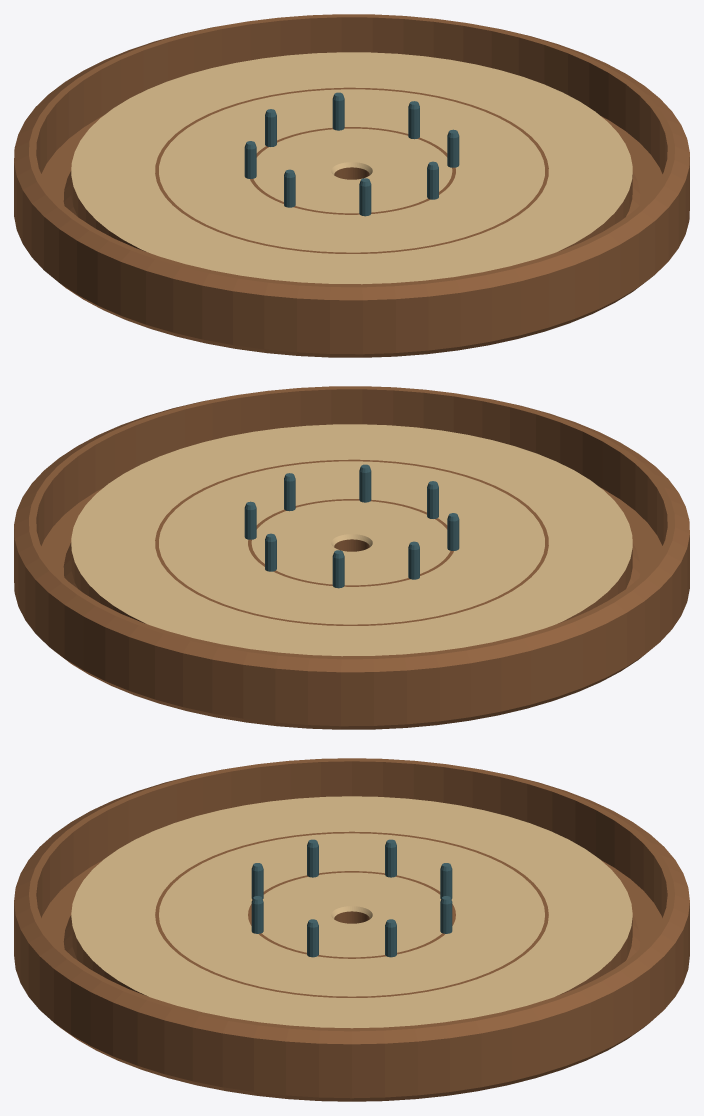
3 renders of one model, top to bottom at view 1: azimuth 30°, elevation 25°; view 2: azimuth 150°, elevation 25°; view 3: azimuth 270°, elevation 25°, orthographic.
Parts seen in each view (by area): view 1: WholeContinuousFieldCentrePocketAndAnnularDitch; view 2: WholeContinuousFieldCentrePocketAndAnnularDitch; view 3: WholeContinuousFieldCentrePocketAndAnnularDitch.
Boxes of the visible parts, x1=… form: WholeContinuousFieldCentrePocketAndAnnularDitch: x1=14, y1=14, x2=689, y2=357; WholeContinuousFieldCentrePocketAndAnnularDitch: x1=14, y1=386, x2=689, y2=729; WholeContinuousFieldCentrePocketAndAnnularDitch: x1=14, y1=758, x2=689, y2=1101.
Size of the model in its own units: 0.91 by 0.155 by 0.91.
